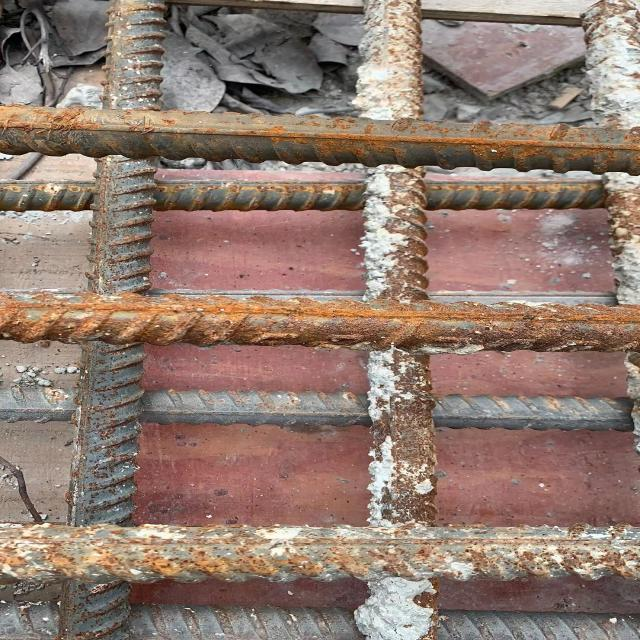ribbed bar: (50, 0, 174, 639), (354, 0, 442, 639), (0, 103, 639, 174), (0, 284, 639, 355), (0, 520, 639, 587), (0, 382, 628, 434), (0, 599, 639, 640), (0, 179, 605, 213)
